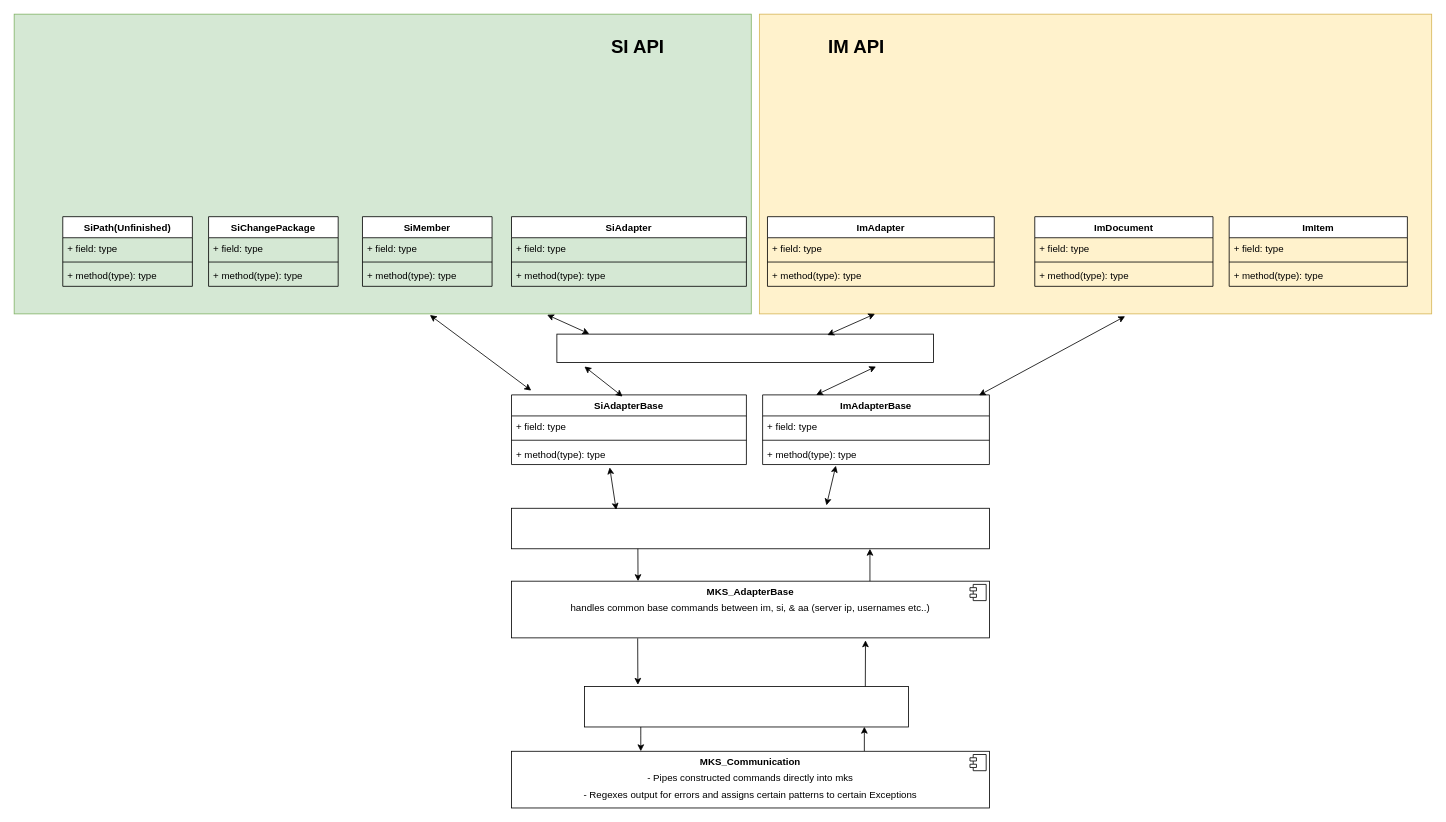
The diagram is 1446 pixels wide and 822 high, and some of its shapes have lost their labels. The shapes that lost their labels are listed below. From the top down, each one's box as (x1, y1, x2, y2) in pixels, then its label:
(556, 333, 934, 362): «interface» MKS_StructureParser
(511, 507, 989, 549): «interface» MKS_CommandConstructor (partially implemented)
(584, 686, 908, 727): ServerConnectionHandler
